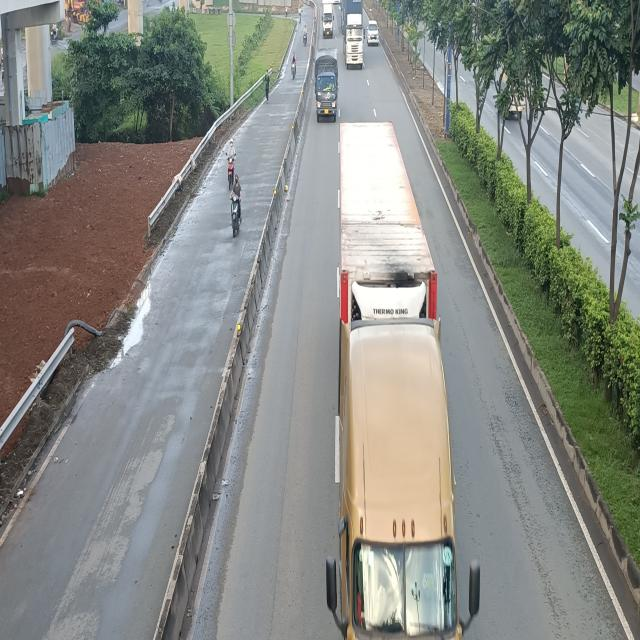car: (366, 21, 379, 47)
container: (331, 120, 468, 636), (344, 0, 364, 68)
truck: (313, 48, 338, 122), (321, 0, 335, 37)
